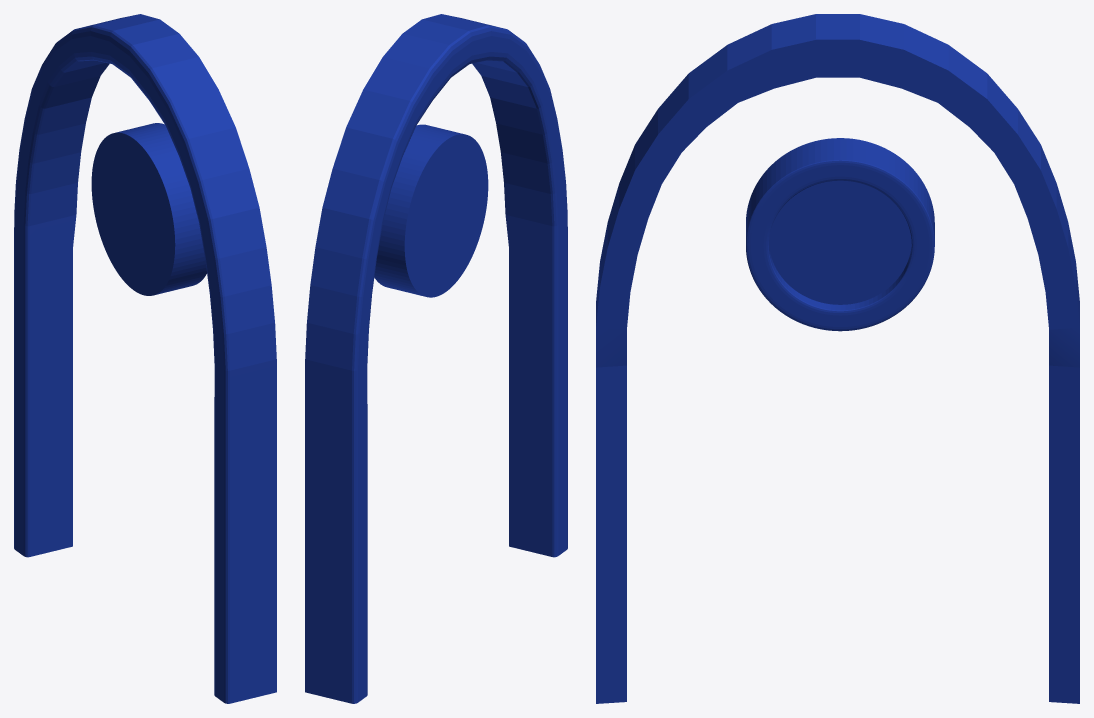
The model's file is env2-pintu4-1.obj.
3 views of the same model, side by side, from view 1: azimuth 30°, elevation 25°; view 2: azimuth 150°, elevation 25°; view 3: azimuth 270°, elevation 25° (orthographic). The views are drawn at different scales.
Parts seen in each view (by area): view 1: Cube.003_Cube.001_Cube.003_Cube.002_Cube.003_Cube.001_Cube.003_C, Cylinder.014_Cylinder.001_Cylinder.014_Cylinder.002; view 2: Cube.003_Cube.001_Cube.003_Cube.002_Cube.003_Cube.001_Cube.003_C, Cylinder.014_Cylinder.001_Cylinder.014_Cylinder.002; view 3: Cube.003_Cube.001_Cube.003_Cube.002_Cube.003_Cube.001_Cube.003_C, Cylinder.014_Cylinder.001_Cylinder.014_Cylinder.002.
Boxes of the visible parts, x1,y1,x2,y2 form: Cube.003_Cube.001_Cube.003_Cube.002_Cube.003_Cube.001_Cube.003_C: [14, 14, 276, 703]; Cylinder.014_Cylinder.001_Cylinder.014_Cylinder.002: [91, 123, 206, 295]; Cube.003_Cube.001_Cube.003_Cube.002_Cube.003_Cube.001_Cube.003_C: [305, 14, 567, 703]; Cylinder.014_Cylinder.001_Cylinder.014_Cylinder.002: [374, 124, 488, 297]; Cube.003_Cube.001_Cube.003_Cube.002_Cube.003_Cube.001_Cube.003_C: [596, 14, 1079, 703]; Cylinder.014_Cylinder.001_Cylinder.014_Cylinder.002: [746, 138, 934, 331].
Bounding box in the file's own units: 0.8437 × 8.53 × 5.63.
